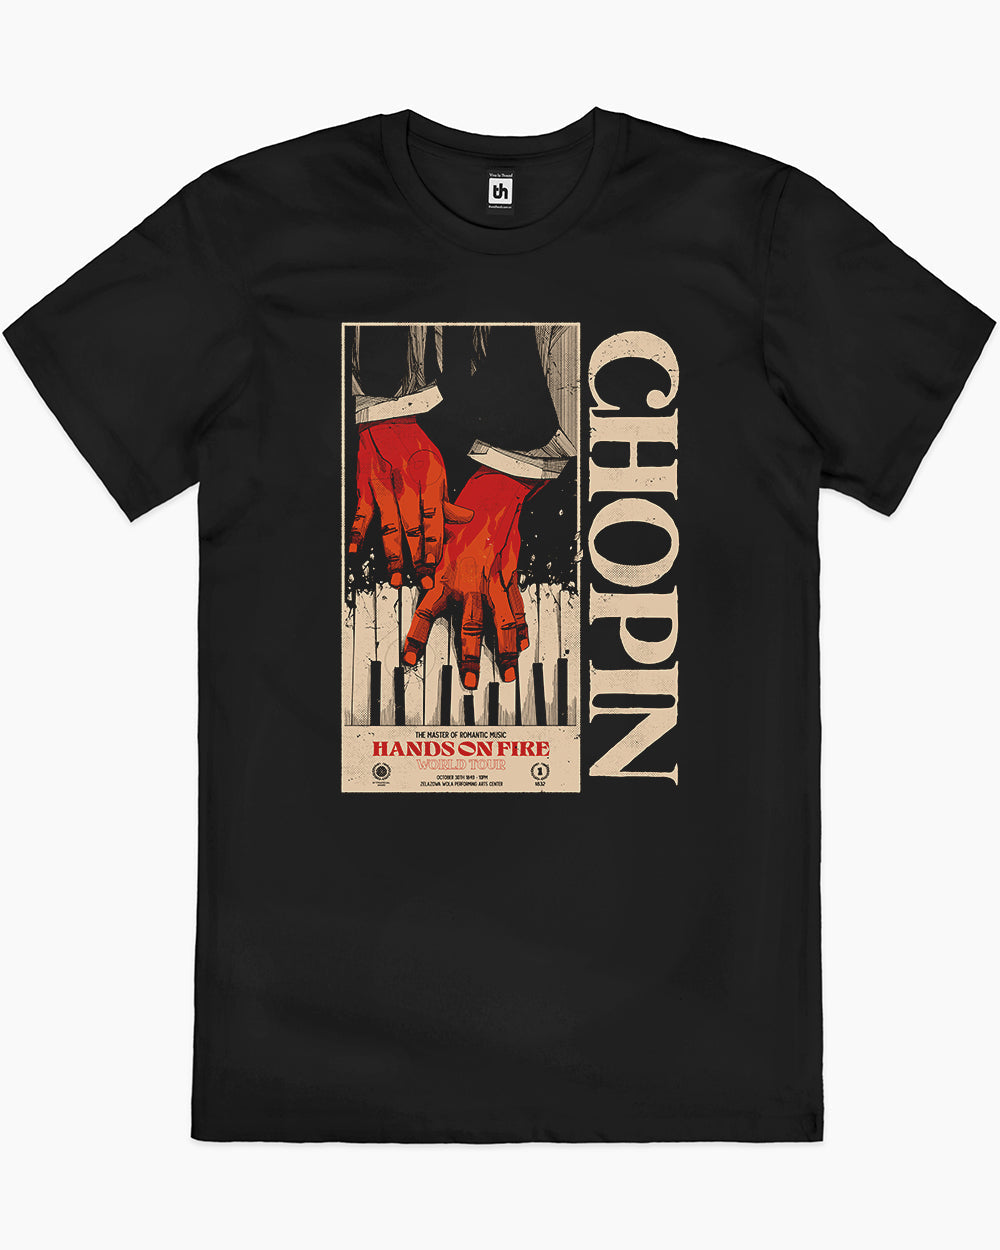design: (334, 318, 685, 799)
